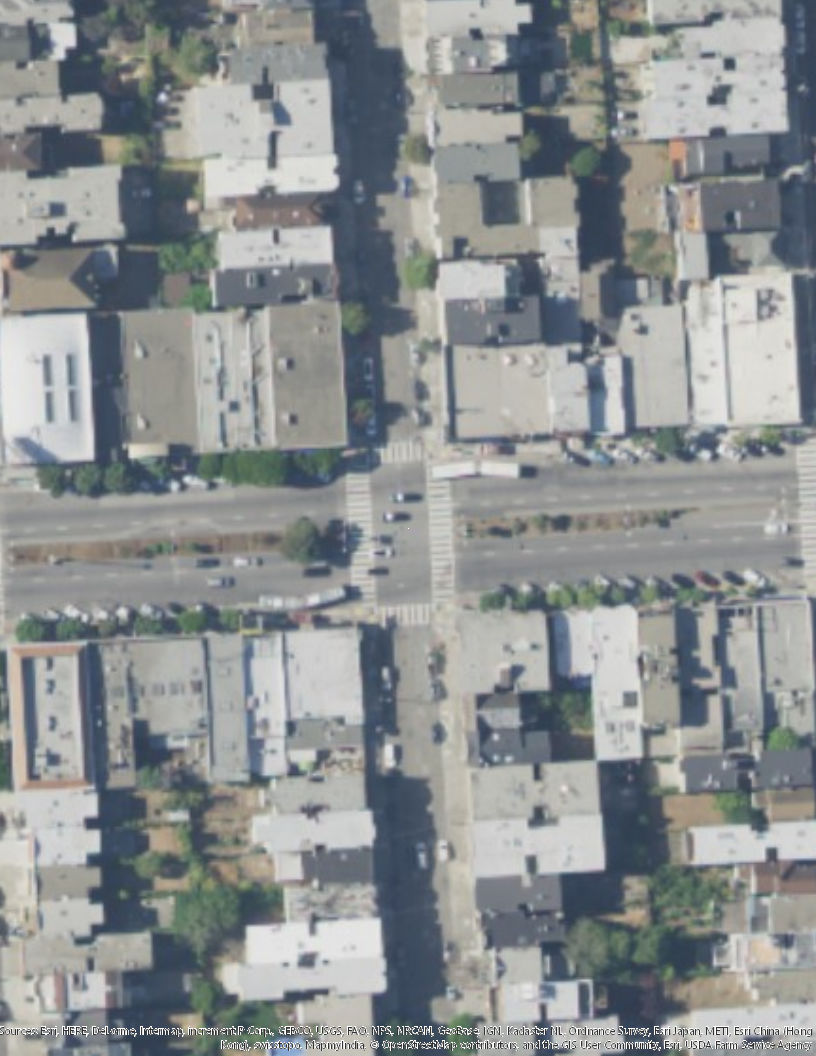zebracross: (342, 468, 378, 602), (424, 472, 461, 599), (796, 423, 816, 574), (368, 438, 426, 465), (380, 602, 433, 626)
